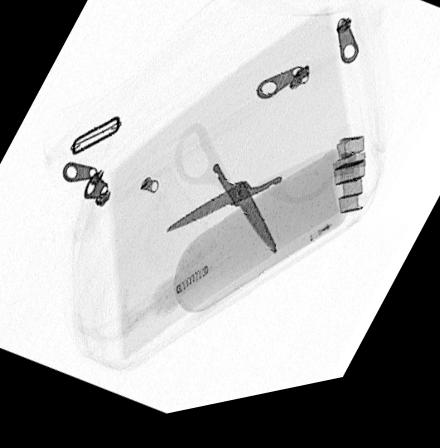Scissors: (159, 131, 343, 269)
